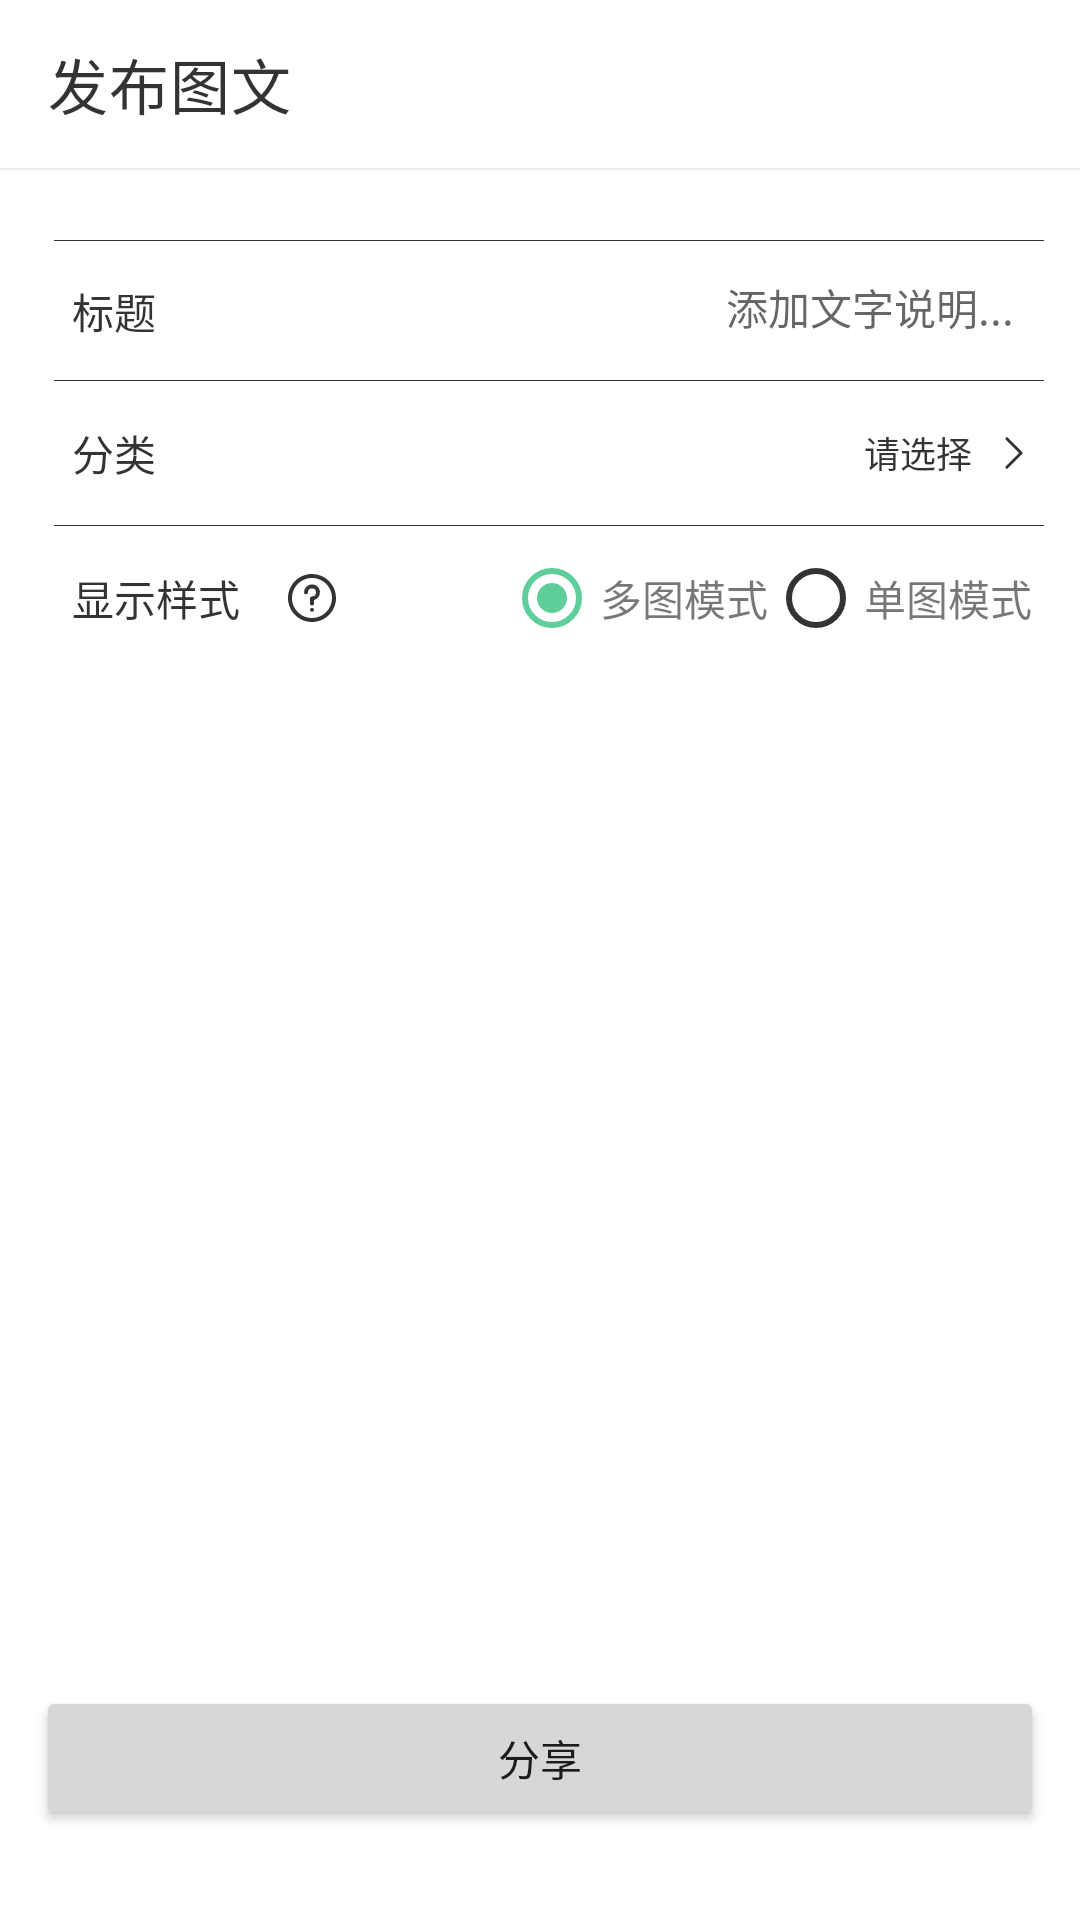

Icons on this 1080x1920 Android screen, each with its box as (x1, y1, x2, y2):
next: (1005, 437, 1023, 469)
